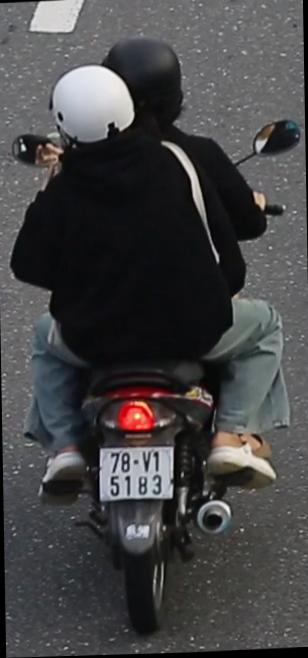LP: (94, 439, 175, 510)
helmet: (42, 59, 160, 193), (100, 27, 196, 160)
